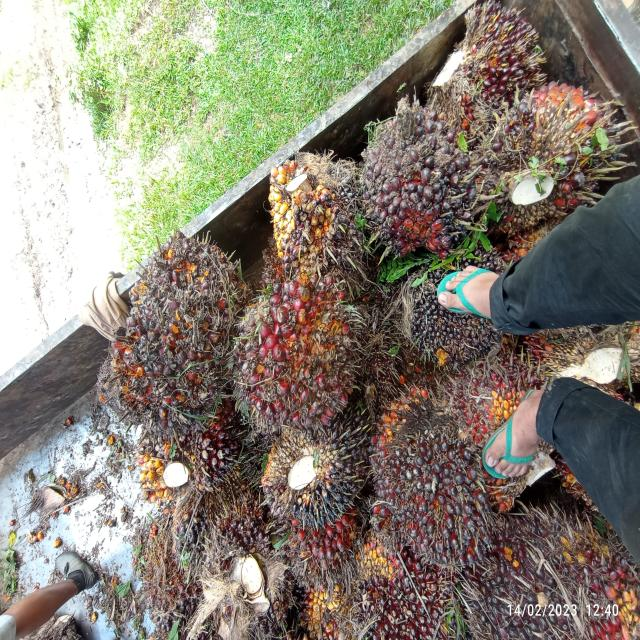fraksi 00: (480, 74, 611, 255), (350, 88, 476, 261), (262, 144, 378, 313), (396, 240, 512, 398), (256, 394, 377, 526)
fraksi 1: (90, 236, 247, 459), (371, 369, 507, 577), (438, 5, 552, 124)
fraksi 3: (232, 269, 368, 439)
